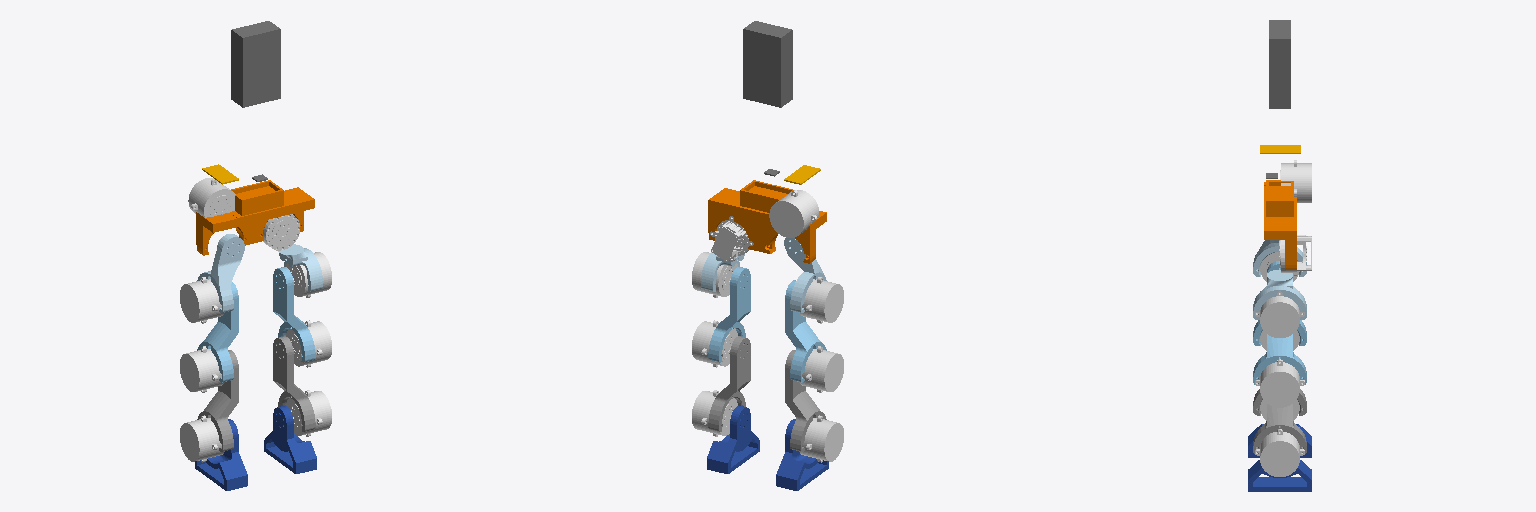
robot.urdf — chicken_v4:
<!--URDF generated by ONSHAPE BY PTC INC, 1.223-->
<robot name="chicken_v4">
    <link name="battery">
        <inertial>
            <mass value="0.000638352" />
            <origin xyz="1.30903e-17 -6.3375e-18 0.078" rpy="0 -0 0" />
            <inertia ixx="1.4096e-06" ixy="0" ixz="0" iyy="1.70653e-06" iyz="0" izz="5.26973e-07" />
        </inertial>
        <visual>
            <origin xyz="1.64023e-17 -6.17031e-18 -0.2069" rpy="0 -0 0" />
            <geometry>
                <mesh filename="package://chicken_v4/meshes/battery.stl" scale="1 1 1" />
            </geometry>
            <material name="0.498039_0.498039_0.498039_0.000000_0.000000">
                <color rgba="0.498039 0.498039 0.498039 1" />
            </material>
        </visual>
    </link>
    <link name="hip">
        <inertial>
            <mass value="0.850859" />
            <origin xyz="0.000321877 0.00769638 0.166364" rpy="0 -0 0" />
            <inertia ixx="0.000834692" ixy="1.69702e-06" ixz="-4.11791e-06" iyy="0.00380616" iyz="0.000171326" izz="0.00357084" />
        </inertial>
        <visual>
            <origin xyz="0 0 0" rpy="0 -0 0" />
            <geometry>
                <mesh filename="package://chicken_v4/meshes/hip.stl" scale="1 1 1" />
            </geometry>
            <material name="0.972549_0.529412_0.003922_0.000000_0.000000">
                <color rgba="0.972549 0.529412 0.00392157 1" />
            </material>
        </visual>
    </link>
    <link name="imu">
        <inertial>
            <mass value="0.00215625" />
            <origin xyz="4.66816e-18 3.46945e-18 -0.0015" rpy="0 -0 0" />
            <inertia ixx="9.66719e-08" ixy="0" ixz="0" iyy="1.13922e-07" iyz="0" izz="2.07359e-07" />
        </inertial>
        <visual>
            <origin xyz="4.29988e-18 0.016 -0.1619" rpy="0 -0 0" />
            <geometry>
                <mesh filename="package://chicken_v4/meshes/imu.stl" scale="1 1 1" />
            </geometry>
            <material name="0.498039_0.498039_0.498039_0.000000_0.000000">
                <color rgba="0.498039 0.498039 0.498039 1" />
            </material>
        </visual>
    </link>
    <link name="lfoot">
        <inertial>
            <mass value="0.27475" />
            <origin xyz="0.002788 -1.53514e-10 -0.0556859" rpy="0 -0 0" />
            <inertia ixx="0.000591386" ixy="-8.57351e-13" ixz="5.5009e-05" iyy="0.000336221" iyz="-1.65362e-13" izz="0.00036925" />
        </inertial>
        <visual>
            <origin xyz="-0.073 -1.58033e-15 0.3099" rpy="0 -0 0" />
            <geometry>
                <mesh filename="package://chicken_v4/meshes/lfoot.stl" scale="1 1 1" />
            </geometry>
            <material name="0.231373_0.380392_0.705882_0.000000_0.000000">
                <color rgba="0.231373 0.380392 0.705882 1" />
            </material>
        </visual>
    </link>
    <link name="lhip">
        <inertial>
            <mass value="0.170522" />
            <origin xyz="0.0178012 -0.00726228 -0.0442833" rpy="0 -0 0" />
            <inertia ixx="0.000355911" ixy="-7.93774e-06" ixz="7.96352e-05" iyy="0.000304669" iyz="2.53374e-05" izz="0.000156205" />
        </inertial>
        <visual>
            <origin xyz="-0.0645 0 -0.1076" rpy="0 -0 0" />
            <geometry>
                <mesh filename="package://chicken_v4/meshes/lhip.stl" scale="1 1 1" />
            </geometry>
            <material name="0.768627_0.886275_0.952941_0.000000_0.000000">
                <color rgba="0.768627 0.886275 0.952941 1" />
            </material>
        </visual>
    </link>
    <link name="llegbottom">
        <inertial>
            <mass value="0.228568" />
            <origin xyz="0.00475445 9.26903e-10 -0.0721569" rpy="0 -0 0" />
            <inertia ixx="0.000706948" ixy="-5.39854e-12" ixz="0.000141469" iyy="0.000630426" iyz="9.93255e-12" izz="0.000182743" />
        </inertial>
        <visual>
            <origin xyz="-0.073 0 0.15495" rpy="0 -0 0" />
            <geometry>
                <mesh filename="package://chicken_v4/meshes/llegbottom.stl" scale="1 1 1" />
            </geometry>
            <material name="0.647059_0.647059_0.647059_0.000000_0.000000">
                <color rgba="0.647059 0.647059 0.647059 1" />
            </material>
        </visual>
    </link>
    <link name="llegtop">
        <inertial>
            <mass value="0.228568" />
            <origin xyz="0.00475445 9.3524e-10 -0.0721569" rpy="0 -0 0" />
            <inertia ixx="0.000706948" ixy="-5.43468e-12" ixz="0.000141469" iyy="0.000630426" iyz="9.95435e-12" izz="0.000182743" />
        </inertial>
        <visual>
            <origin xyz="-0.073 0 -9.44925e-18" rpy="0 -0 0" />
            <geometry>
                <mesh filename="package://chicken_v4/meshes/llegtop.stl" scale="1 1 1" />
            </geometry>
            <material name="0.615686_0.811765_0.929412_0.000000_0.000000">
                <color rgba="0.615686 0.811765 0.929412 1" />
            </material>
        </visual>
    </link>
    <link name="lm_ankle">
        <inertial>
            <mass value="0.000118329" />
            <origin xyz="-0.00346062 -0.0457623 8.81747e-05" rpy="0 -0 0" />
            <inertia ixx="1.15511e-07" ixy="-1.54615e-10" ixz="-3.6442e-10" iyy="1.05939e-07" iyz="-7.74898e-09" izz="9.3638e-08" />
        </inertial>
        <visual>
            <origin xyz="-0.1005 -0.0458 0.3099" rpy="0 -0 0" />
            <geometry>
                <mesh filename="package://chicken_v4/meshes/lm_ankle.stl" scale="1 1 1" />
            </geometry>
            <material name="0.917647_0.917647_0.917647_0.000000_0.000000">
                <color rgba="0.917647 0.917647 0.917647 1" />
            </material>
        </visual>
    </link>
    <link name="lm_hip">
        <inertial>
            <mass value="0.000118329" />
            <origin xyz="-0.00346062 -0.0457623 8.81747e-05" rpy="0 -0 0" />
            <inertia ixx="1.15511e-07" ixy="-1.54615e-10" ixz="-3.6442e-10" iyy="1.05939e-07" iyz="-7.74898e-09" izz="9.3638e-08" />
        </inertial>
        <visual>
            <origin xyz="-0.1005 -0.0458 -1.05512e-17" rpy="0 -0 0" />
            <geometry>
                <mesh filename="package://chicken_v4/meshes/lm_hip.stl" scale="1 1 1" />
            </geometry>
            <material name="0.917647_0.917647_0.917647_0.000000_0.000000">
                <color rgba="0.917647 0.917647 0.917647 1" />
            </material>
        </visual>
    </link>
    <link name="lm_knee">
        <inertial>
            <mass value="0.000118329" />
            <origin xyz="-0.00346062 -0.0457623 8.81747e-05" rpy="0 -0 0" />
            <inertia ixx="1.15511e-07" ixy="-1.54615e-10" ixz="-3.6442e-10" iyy="1.05939e-07" iyz="-7.74898e-09" izz="9.3638e-08" />
        </inertial>
        <visual>
            <origin xyz="-0.1005 -0.0458 0.15495" rpy="0 -0 0" />
            <geometry>
                <mesh filename="package://chicken_v4/meshes/lm_knee.stl" scale="1 1 1" />
            </geometry>
            <material name="0.917647_0.917647_0.917647_0.000000_0.000000">
                <color rgba="0.917647 0.917647 0.917647 1" />
            </material>
        </visual>
    </link>
    <link name="rfoot">
        <inertial>
            <mass value="0.27475" />
            <origin xyz="-0.002788 -1.53512e-10 -0.0556859" rpy="0 -0 0" />
            <inertia ixx="0.000591386" ixy="8.57351e-13" ixz="-5.5009e-05" iyy="0.000336221" iyz="-1.65362e-13" izz="0.00036925" />
        </inertial>
        <visual>
            <origin xyz="0.073 0 0.3099" rpy="0 -0 0" />
            <geometry>
                <mesh filename="package://chicken_v4/meshes/rfoot.stl" scale="1 1 1" />
            </geometry>
            <material name="0.231373_0.380392_0.705882_0.000000_0.000000">
                <color rgba="0.231373 0.380392 0.705882 1" />
            </material>
        </visual>
    </link>
    <link name="rhip">
        <inertial>
            <mass value="0.170522" />
            <origin xyz="-0.0178012 -0.00726228 -0.0442833" rpy="0 -0 0" />
            <inertia ixx="0.000355911" ixy="7.93774e-06" ixz="-7.96352e-05" iyy="0.000304669" iyz="2.53374e-05" izz="0.000156205" />
        </inertial>
        <visual>
            <origin xyz="0.0645 0 -0.1076" rpy="0 -0 0" />
            <geometry>
                <mesh filename="package://chicken_v4/meshes/rhip.stl" scale="1 1 1" />
            </geometry>
            <material name="0.768627_0.886275_0.952941_0.000000_0.000000">
                <color rgba="0.768627 0.886275 0.952941 1" />
            </material>
        </visual>
    </link>
    <link name="rlegbottom">
        <inertial>
            <mass value="0.228568" />
            <origin xyz="-0.00475445 9.24648e-10 -0.0721569" rpy="0 -0 0" />
            <inertia ixx="0.000706948" ixy="4.41611e-12" ixz="-0.000141469" iyy="0.000630426" iyz="9.21174e-12" izz="0.000182743" />
        </inertial>
        <visual>
            <origin xyz="0.073 0 0.15495" rpy="0 -0 0" />
            <geometry>
                <mesh filename="package://chicken_v4/meshes/rlegbottom.stl" scale="1 1 1" />
            </geometry>
            <material name="0.647059_0.647059_0.647059_0.000000_0.000000">
                <color rgba="0.647059 0.647059 0.647059 1" />
            </material>
        </visual>
    </link>
    <link name="rlegtop">
        <inertial>
            <mass value="0.228568" />
            <origin xyz="-0.00475445 9.29488e-10 -0.0721569" rpy="0 -0 0" />
            <inertia ixx="0.000706948" ixy="4.44197e-12" ixz="-0.000141469" iyy="0.000630426" iyz="9.23608e-12" izz="0.000182743" />
        </inertial>
        <visual>
            <origin xyz="0.073 0 -9.44925e-18" rpy="0 -0 0" />
            <geometry>
                <mesh filename="package://chicken_v4/meshes/rlegtop.stl" scale="1 1 1" />
            </geometry>
            <material name="0.615686_0.811765_0.929412_0.000000_0.000000">
                <color rgba="0.615686 0.811765 0.929412 1" />
            </material>
        </visual>
    </link>
    <link name="rm_ankle">
        <inertial>
            <mass value="0.000118329" />
            <origin xyz="0.00346062 0.0458377 8.81747e-05" rpy="0 -0 0" />
            <inertia ixx="1.15511e-07" ixy="1.54615e-10" ixz="3.6442e-10" iyy="1.05939e-07" iyz="-7.74897e-09" izz="9.3638e-08" />
        </inertial>
        <visual>
            <origin xyz="0.1005 0.0458 0.3099" rpy="0 -0 0" />
            <geometry>
                <mesh filename="package://chicken_v4/meshes/rm_ankle.stl" scale="1 1 1" />
            </geometry>
            <material name="0.917647_0.917647_0.917647_0.000000_0.000000">
                <color rgba="0.917647 0.917647 0.917647 1" />
            </material>
        </visual>
    </link>
    <link name="rm_hip">
        <inertial>
            <mass value="0.000118329" />
            <origin xyz="0.00346062 0.0458377 8.81747e-05" rpy="0 -0 0" />
            <inertia ixx="1.15511e-07" ixy="1.54615e-10" ixz="3.6442e-10" iyy="1.05939e-07" iyz="-7.74897e-09" izz="9.3638e-08" />
        </inertial>
        <visual>
            <origin xyz="0.1005 0.0458 -1.48277e-17" rpy="0 -0 0" />
            <geometry>
                <mesh filename="package://chicken_v4/meshes/rm_hip.stl" scale="1 1 1" />
            </geometry>
            <material name="0.917647_0.917647_0.917647_0.000000_0.000000">
                <color rgba="0.917647 0.917647 0.917647 1" />
            </material>
        </visual>
    </link>
    <link name="rm_knee">
        <inertial>
            <mass value="0.000118329" />
            <origin xyz="0.00346062 0.0458377 8.81747e-05" rpy="0 -0 0" />
            <inertia ixx="1.15511e-07" ixy="1.54615e-10" ixz="3.6442e-10" iyy="1.05939e-07" iyz="-7.74897e-09" izz="9.3638e-08" />
        </inertial>
        <visual>
            <origin xyz="0.1005 0.0458 0.15495" rpy="0 -0 0" />
            <geometry>
                <mesh filename="package://chicken_v4/meshes/rm_knee.stl" scale="1 1 1" />
            </geometry>
            <material name="0.917647_0.917647_0.917647_0.000000_0.000000">
                <color rgba="0.917647 0.917647 0.917647 1" />
            </material>
        </visual>
    </link>
    <link name="rm_side_hip">
        <inertial>
            <mass value="0.000118329" />
            <origin xyz="0.0458377 -0.00346062 8.81747e-05" rpy="0 -0 0" />
            <inertia ixx="1.05939e-07" ixy="-1.54615e-10" ixz="-7.74897e-09" iyy="1.15511e-07" iyz="-3.6442e-10" izz="9.3638e-08" />
        </inertial>
        <visual>
            <origin xyz="0.1103 -0.0275 -0.1076" rpy="0 -0 0" />
            <geometry>
                <mesh filename="package://chicken_v4/meshes/rm_side_hip.stl" scale="1 1 1" />
            </geometry>
            <material name="0.917647_0.917647_0.917647_0.000000_0.000000">
                <color rgba="0.917647 0.917647 0.917647 1" />
            </material>
        </visual>
    </link>
    <link name="rm_side_hip_1">
        <inertial>
            <mass value="0.000118329" />
            <origin xyz="0.0457623 -0.00346062 8.81747e-05" rpy="0 -0 0" />
            <inertia ixx="1.05939e-07" ixy="1.54615e-10" ixz="7.74898e-09" iyy="1.15511e-07" iyz="-3.6442e-10" izz="9.3638e-08" />
        </inertial>
        <visual>
            <origin xyz="-0.0187 -0.0275 -0.1076" rpy="0 -0 0" />
            <geometry>
                <mesh filename="package://chicken_v4/meshes/rm_side_hip_1.stl" scale="1 1 1" />
            </geometry>
            <material name="0.917647_0.917647_0.917647_0.000000_0.000000">
                <color rgba="0.917647 0.917647 0.917647 1" />
            </material>
        </visual>
    </link>
    <link name="root" />
    <link name="stm32">
        <inertial>
            <mass value="0.0123" />
            <origin xyz="1.38778e-17 1.73472e-17 0.0015" rpy="0 -0 0" />
            <inertia ixx="6.90133e-06" ixy="0" ixz="0" iyy="1.64922e-06" iyz="0" izz="8.5321e-06" />
        </inertial>
        <visual>
            <origin xyz="0.0817529 -0.00263012 -0.1819" rpy="0 -0 0" />
            <geometry>
                <mesh filename="package://chicken_v4/meshes/stm32.stl" scale="1 1 1" />
            </geometry>
            <material name="0.980392_0.713725_0.003922_0.000000_0.000000">
                <color rgba="0.980392 0.713726 0.00392157 1" />
            </material>
        </visual>
    </link>
    <joint name="fastened_1" type="fixed">
        <origin xyz="-1.64023e-17 6.17031e-18 0.2069" rpy="0 -0 0" />
        <axis xyz="0 0 -1" />
        <parent link="hip" />
        <child link="battery" />
    </joint>
    <joint name="fastened_10" type="fixed">
        <origin xyz="-0.0275 -0.0458 -0.15495" rpy="0 -0 0" />
        <axis xyz="1 0 -1.06752e-16" />
        <parent link="rlegtop" />
        <child link="rm_knee" />
    </joint>
    <joint name="fastened_11" type="fixed">
        <origin xyz="-0.0275 -0.0458 -0.15495" rpy="0 -0 0" />
        <axis xyz="1 0 -1.06752e-16" />
        <parent link="rlegbottom" />
        <child link="rm_ankle" />
    </joint>
    <joint name="fastened_2" type="fixed">
        <origin xyz="-4.29988e-18 -0.016 0.1629" rpy="0 -0 0" />
        <axis xyz="0 0 1" />
        <parent link="hip" />
        <child link="imu" />
    </joint>
    <joint name="fastened_3" type="fixed">
        <origin xyz="-0.0817529 0.0015 0.1809" rpy="0 -0 0" />
        <axis xyz="0 0 -1" />
        <parent link="hip" />
        <child link="stm32" />
    </joint>
    <joint name="fastened_4" type="fixed">
        <origin xyz="-0.1103 0.0275 0.1076" rpy="0 -0 0" />
        <axis xyz="0 -1 0" />
        <parent link="hip" />
        <child link="rm_side_hip" />
    </joint>
    <joint name="fastened_5" type="fixed">
        <origin xyz="0.0187 0.0275 0.1076" rpy="0 -0 0" />
        <axis xyz="0 -1 0" />
        <parent link="hip" />
        <child link="rm_side_hip_1" />
    </joint>
    <joint name="fastened_6" type="fixed">
        <origin xyz="0.036 0.0458 -0.1076" rpy="0 -0 0" />
        <axis xyz="-1 0 -1.06752e-16" />
        <parent link="lhip" />
        <child link="lm_hip" />
    </joint>
    <joint name="fastened_7" type="fixed">
        <origin xyz="0.0275 0.0458 -0.15495" rpy="0 -0 0" />
        <axis xyz="-1 0 -1.06752e-16" />
        <parent link="llegtop" />
        <child link="lm_knee" />
    </joint>
    <joint name="fastened_8" type="fixed">
        <origin xyz="0.0275 0.0458 -0.15495" rpy="0 -0 0" />
        <axis xyz="-1 0 -1.06752e-16" />
        <parent link="llegbottom" />
        <child link="lm_ankle" />
    </joint>
    <joint name="fastened_9" type="fixed">
        <origin xyz="-0.036 -0.0458 -0.1076" rpy="0 -0 0" />
        <axis xyz="1 0 -1.06752e-16" />
        <parent link="rhip" />
        <child link="rm_hip" />
    </joint>
    <joint name="fixed_node_to_root_joint" type="fixed">
        <origin xyz="0 0 0" rpy="0 -0 0" />
        <axis xyz="0 0 1" />
        <parent link="root" />
        <child link="hip" />
    </joint>
    <joint name="lfoot" type="continuous">
        <origin xyz="-0.0275 -0.0458 0" rpy="0 -0 0" />
        <axis xyz="1 0 1.06752e-16" />
        <parent link="lm_ankle" />
        <child link="lfoot" />
    </joint>
    <joint name="lhip" type="continuous">
        <origin xyz="-0.0275 -0.0458 -1.10192e-18" rpy="0 -0 0" />
        <axis xyz="1 0 1.06752e-16" />
        <parent link="lm_hip" />
        <child link="llegtop" />
    </joint>
    <joint name="lknee" type="continuous">
        <origin xyz="-0.0275 -0.0458 0" rpy="0 -0 0" />
        <axis xyz="1 0 1.06752e-16" />
        <parent link="lm_knee" />
        <child link="llegbottom" />
    </joint>
    <joint name="lsidehip" type="continuous">
        <origin xyz="0.0458 -0.0275 0" rpy="0 -0 0" />
        <axis xyz="0 1 0" />
        <parent link="rm_side_hip_1" />
        <child link="lhip" />
    </joint>
    <joint name="rfoot" type="continuous">
        <origin xyz="0.0275 0.0458 -1.11022e-16" rpy="0 -0 0" />
        <axis xyz="-1 0 1.06752e-16" />
        <parent link="rm_ankle" />
        <child link="rfoot" />
    </joint>
    <joint name="rhip" type="continuous">
        <origin xyz="0.0275 0.0458 -8.84793e-18" rpy="0 -0 0" />
        <axis xyz="-1 0 1.06752e-16" />
        <parent link="rm_hip" />
        <child link="rlegtop" />
    </joint>
    <joint name="rknee" type="continuous">
        <origin xyz="0.0275 0.0458 -2.77556e-17" rpy="0 -0 0" />
        <axis xyz="-1 0 1.06752e-16" />
        <parent link="rm_knee" />
        <child link="rlegbottom" />
    </joint>
    <joint name="rsidehip" type="continuous">
        <origin xyz="0.0458 -0.0275 -5.55112e-17" rpy="0 -0 0" />
        <axis xyz="0 1 0" />
        <parent link="rm_side_hip" />
        <child link="rhip" />
    </joint>
</robot>

--- What the picture shows (computed from the rendered views, not written in the file) ---
Views: 3 orthographic renders of the robot side by side, from view 1: azimuth 30°, elevation 25°; view 2: azimuth 150°, elevation 25°; view 3: azimuth 270°, elevation 25°.
Robot: chicken_v4 — 21 links, 20 joints (8 continuous, 12 fixed); root link root; default pose: all joints at 0.
Visible links, largest first — view 1: hip, battery, lfoot, llegbottom, llegtop, rhip, rlegbottom, rfoot, rlegtop, rm_ankle, rm_hip, rm_knee (+6 smaller); view 2: hip, battery, lfoot, llegbottom, llegtop, rm_side_hip, rlegbottom, rlegtop, rfoot, rm_ankle, rm_hip, rm_knee (+6 smaller); view 3: hip, battery, lm_ankle, lm_knee, lm_hip, lfoot, lhip, llegtop, llegbottom, rm_side_hip, rhip, rm_side_hip_1.
Boxes of the visible links, x1,y1,x2,y2 form: hip: (196, 180, 314, 255); battery: (231, 21, 280, 107); lfoot: (264, 406, 316, 473); llegbottom: (273, 336, 315, 431); llegtop: (273, 267, 315, 362); rhip: (197, 234, 244, 312); rlegbottom: (197, 350, 238, 451); rfoot: (195, 419, 247, 490); rlegtop: (197, 282, 238, 382); rm_ankle: (180, 415, 224, 462); rm_hip: (180, 277, 223, 323); rm_knee: (180, 346, 224, 392); hip: (708, 180, 826, 263); battery: (743, 21, 792, 107); lfoot: (707, 406, 759, 473); llegbottom: (708, 336, 750, 431); llegtop: (708, 267, 750, 362); rm_side_hip: (769, 190, 818, 237); rlegbottom: (785, 350, 826, 451); rlegtop: (785, 280, 826, 382); rfoot: (776, 419, 828, 490); rm_ankle: (799, 415, 843, 462); rm_hip: (800, 277, 843, 323); rm_knee: (799, 346, 843, 392); hip: (1264, 180, 1296, 269); battery: (1269, 20, 1290, 108); lm_ankle: (1255, 429, 1304, 476); lm_knee: (1255, 359, 1304, 407); lm_hip: (1255, 291, 1304, 337); lfoot: (1248, 460, 1311, 491); lhip: (1253, 270, 1306, 319); llegtop: (1253, 334, 1306, 384); llegbottom: (1253, 404, 1306, 453); rm_side_hip: (1280, 160, 1311, 202); rhip: (1253, 240, 1306, 276); rm_side_hip_1: (1280, 235, 1311, 275).
Size in the robot's own frame: 0.3102 by 0.1291 by 0.9811 metres.
20 mesh visuals loaded from 20 distinct referenced files (20 binary STL).
